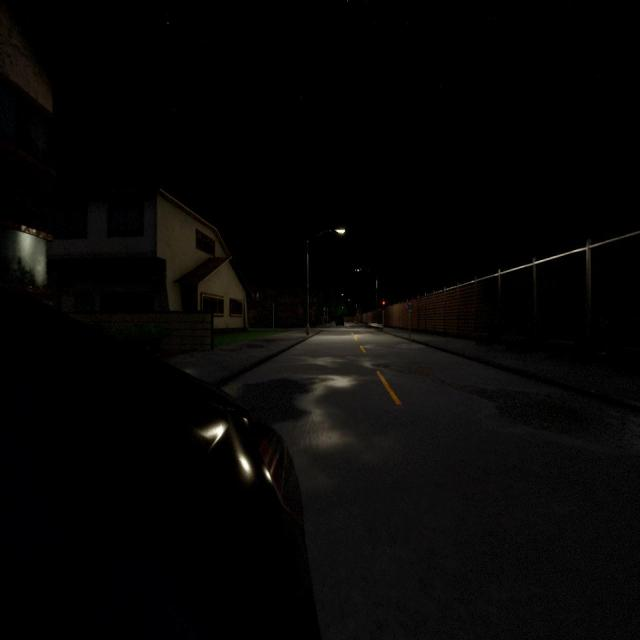Traffic_Signs: (405, 300, 415, 312)
Vehicle: (0, 286, 319, 638), (335, 314, 344, 327)
traffic_light: (382, 300, 386, 310)
